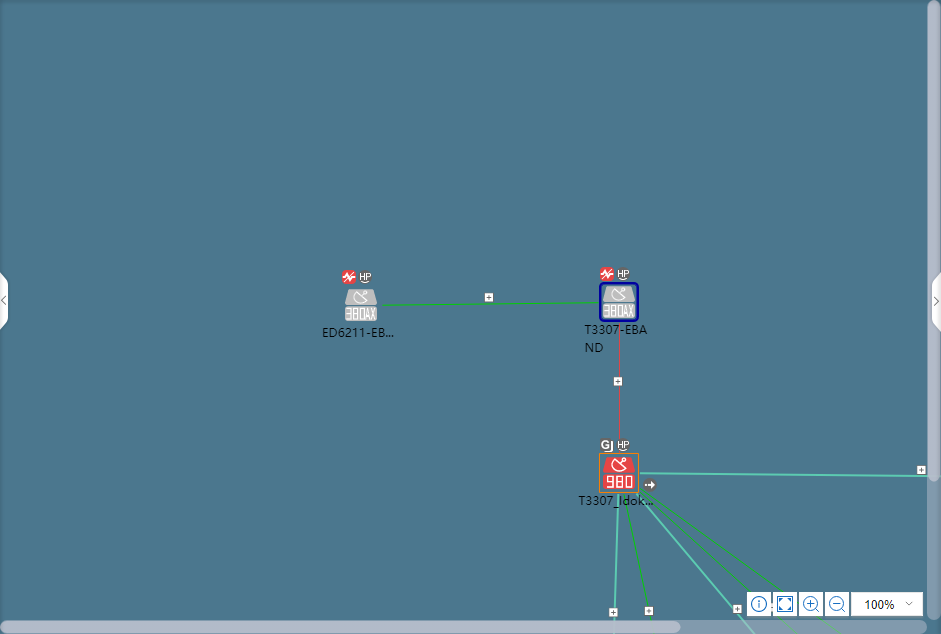Link_Blue: (635, 494, 756, 634), (640, 472, 927, 479), (613, 494, 619, 622)
Link_Green: (641, 486, 786, 592), (640, 492, 755, 593), (623, 494, 653, 621), (383, 301, 598, 307)
Link_Red: (617, 322, 622, 440)
RTN_Gray: (601, 285, 636, 320), (344, 290, 376, 321)
RTN_Red: (599, 455, 636, 492)
